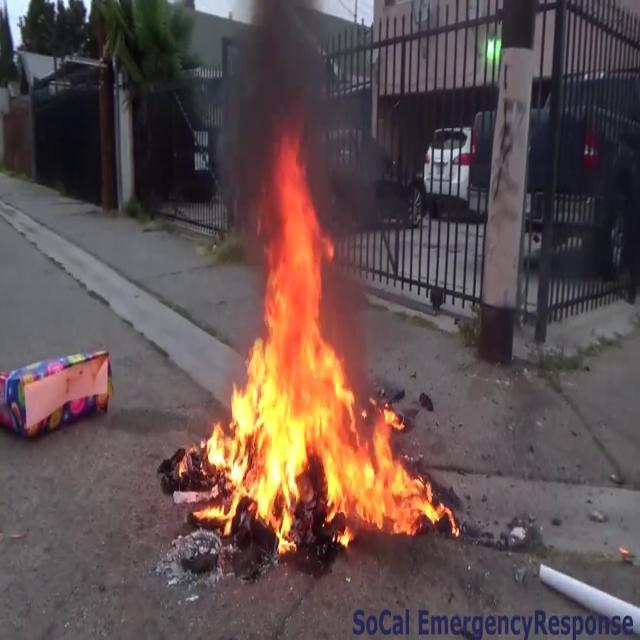Fire: (190, 143, 450, 550)
Smoke: (207, 0, 348, 215)
